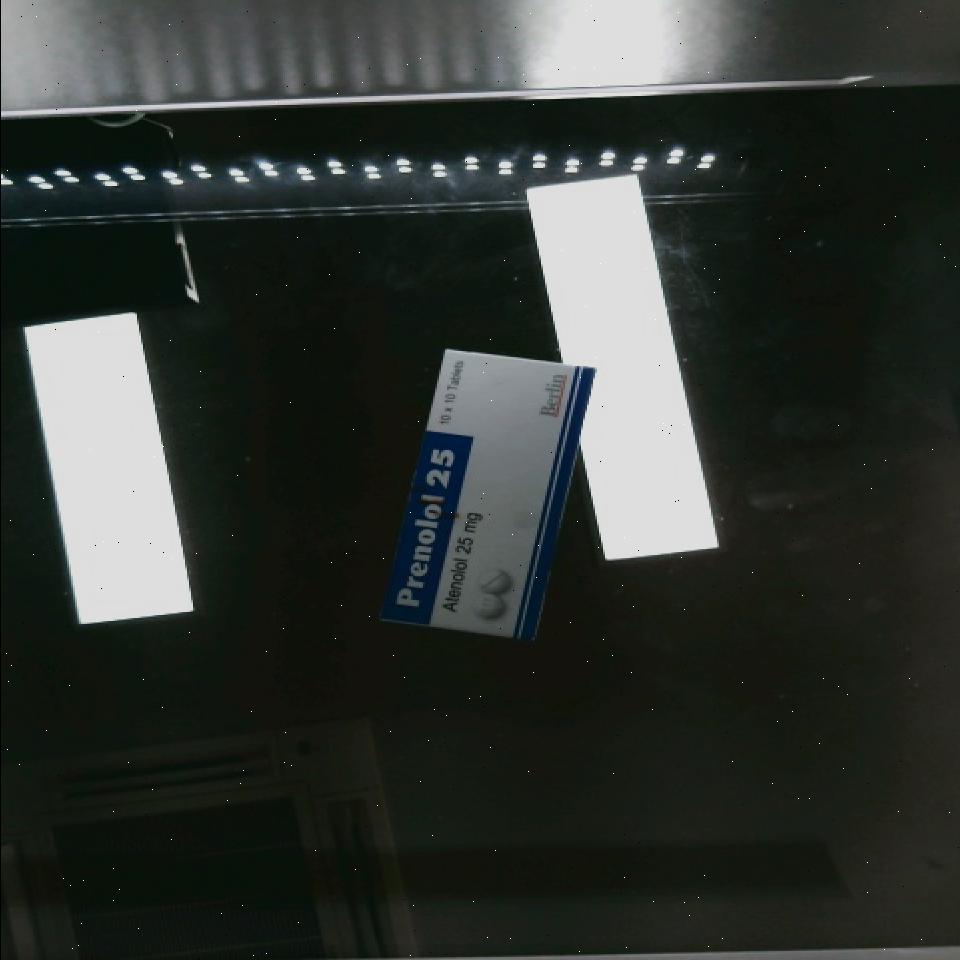medicine_box: (375, 334, 590, 653)
medicine_label_obb: (379, 423, 472, 625)
